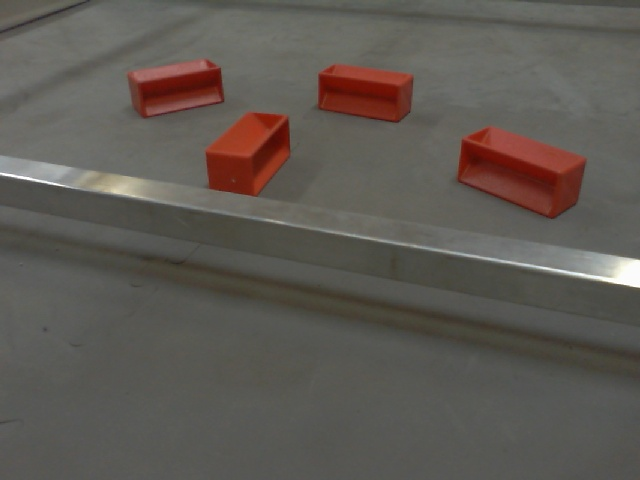RedSample: (456, 121, 588, 218), (206, 112, 292, 196), (316, 63, 419, 126), (125, 56, 228, 119)
